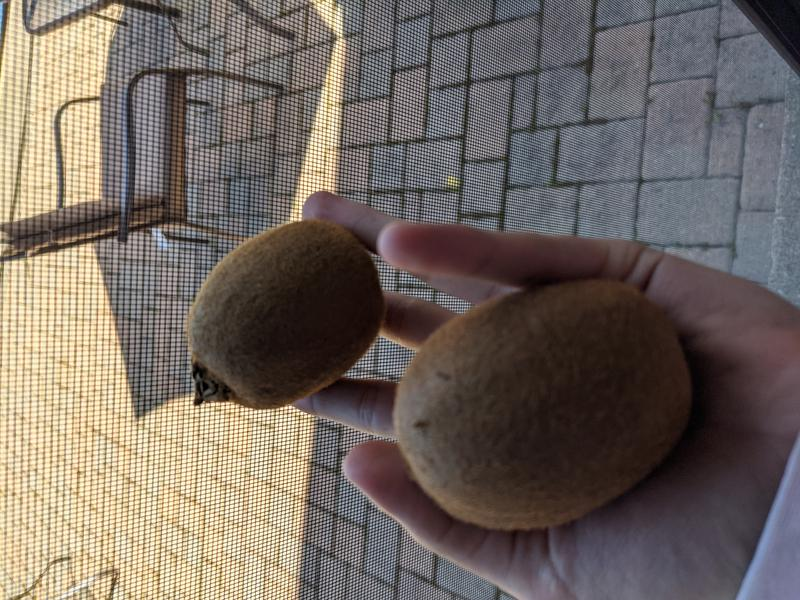kiwi: (393, 277, 694, 531), (185, 218, 386, 413)
